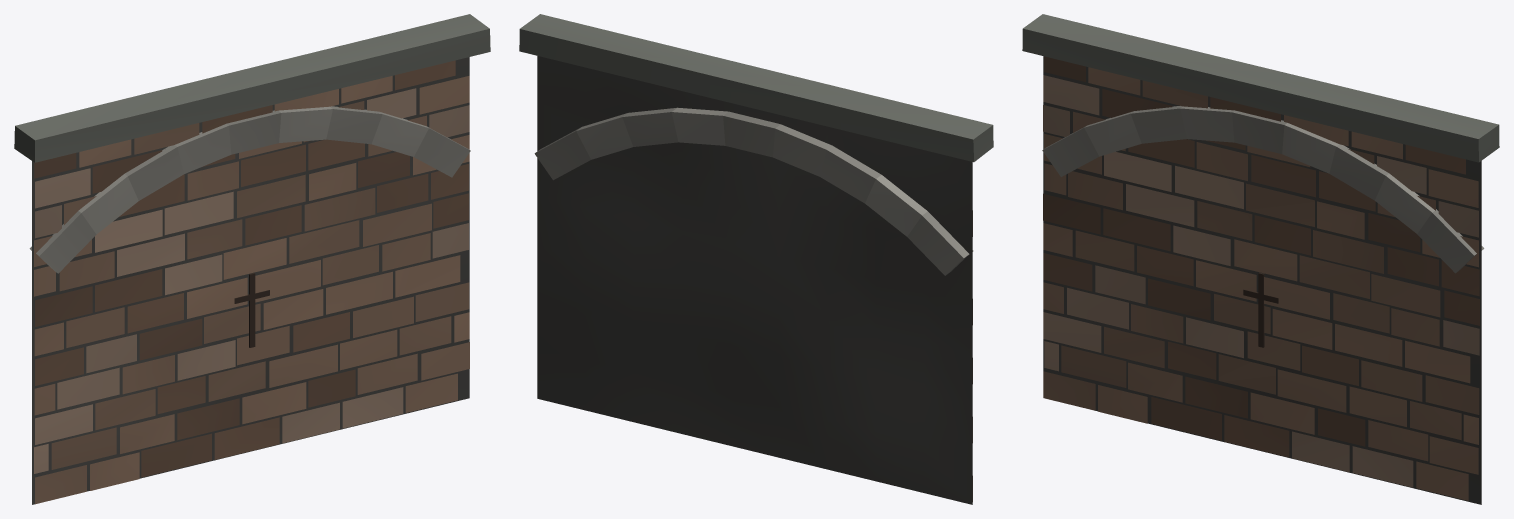
The model's file is ph_int_crypt_niche_sealed.glb.
3 views of the same model, side by side, from view 1: azimuth 30°, elevation 25°; view 2: azimuth 150°, elevation 25°; view 3: azimuth 330°, elevation 25° (orthographic).
Visible parts, largest first — view 1: ph_int_crypt_niche_sealed; view 2: ph_int_crypt_niche_sealed; view 3: ph_int_crypt_niche_sealed.
Boxes of the visible parts, x1=… form: ph_int_crypt_niche_sealed: x1=14, y1=14, x2=490, y2=504; ph_int_crypt_niche_sealed: x1=519, y1=14, x2=993, y2=504; ph_int_crypt_niche_sealed: x1=1022, y1=14, x2=1499, y2=504.
Bounding box in the file's own units: 2.09 × 1.64 × 0.1624.
